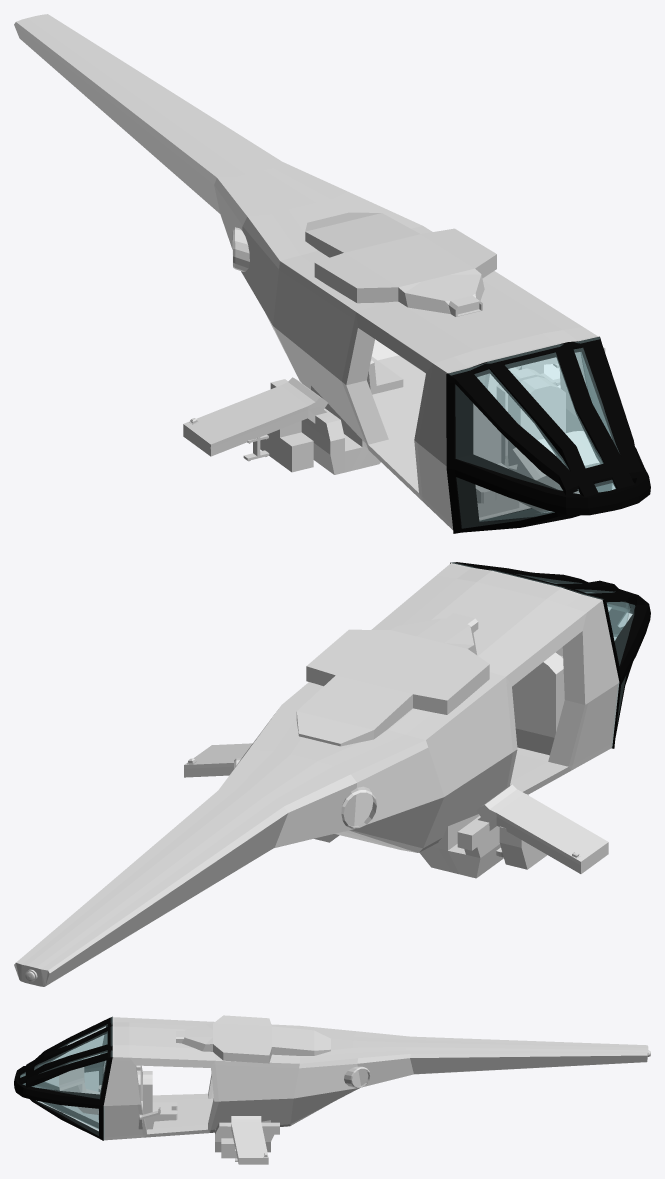
File: cockpit.fbx
3 views of the same model, one above another, from view 1: azimuth 30°, elevation 25°; view 2: azimuth 150°, elevation 25°; view 3: azimuth 270°, elevation 25° (orthographic). The views are drawn at different scales.
Parts seen in each view (by area): view 1: cockpit; view 2: cockpit; view 3: cockpit.
Boxes of the visible parts, <box> form: cockpit: <box>14,14,650,533</box>; cockpit: <box>14,562,650,986</box>; cockpit: <box>14,1015,650,1164</box>.
Size of the model in its own units: 232 by 97.9 by 597.
